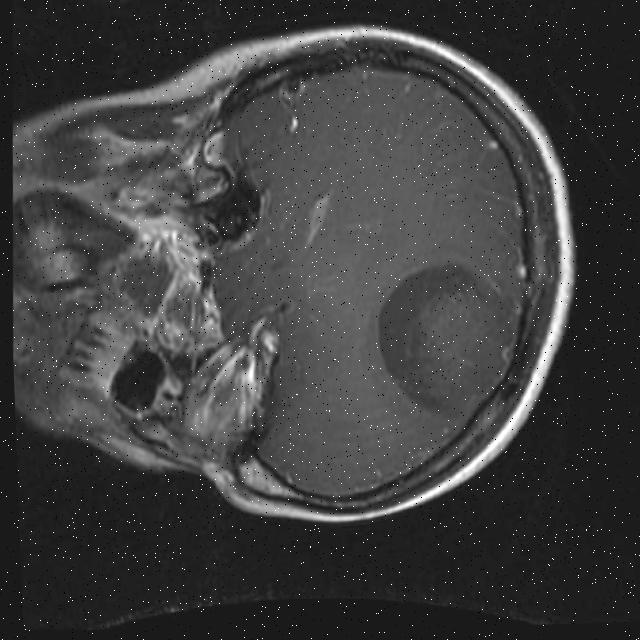Glioma: (370, 256, 527, 426)
